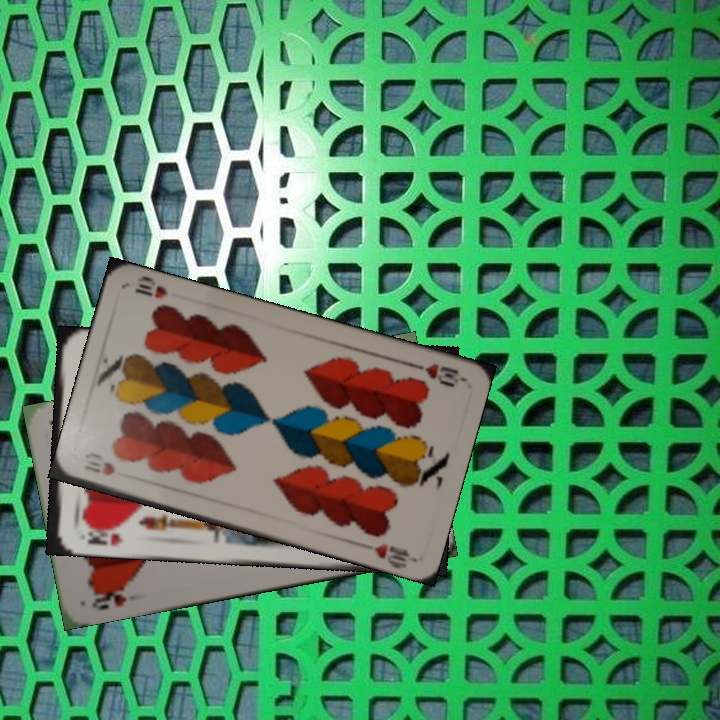H10: (407, 359, 465, 390), (80, 458, 118, 479)
HK: (81, 521, 126, 549)
HO: (88, 582, 132, 613)
